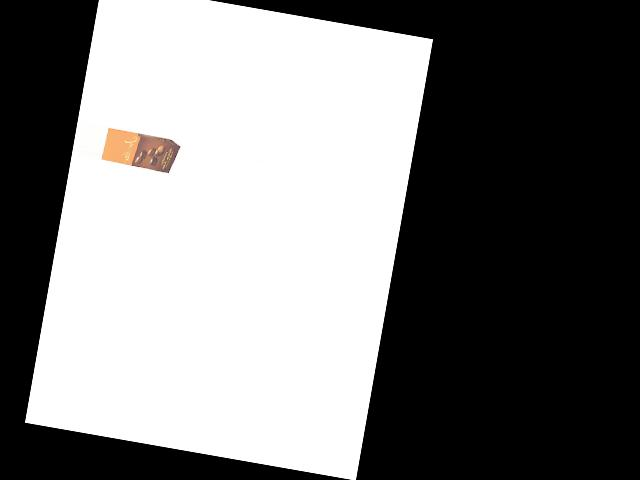chocolate: (101, 125, 181, 178)
